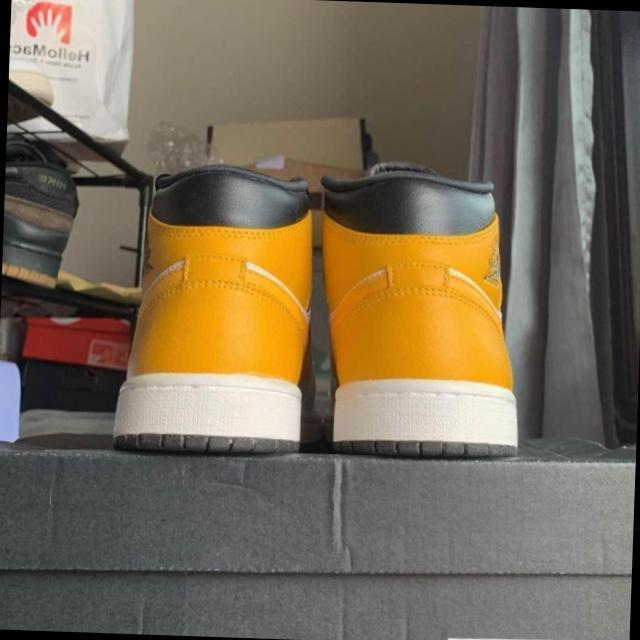nike original jordan 1: (309, 156, 529, 466), (104, 162, 324, 464)
